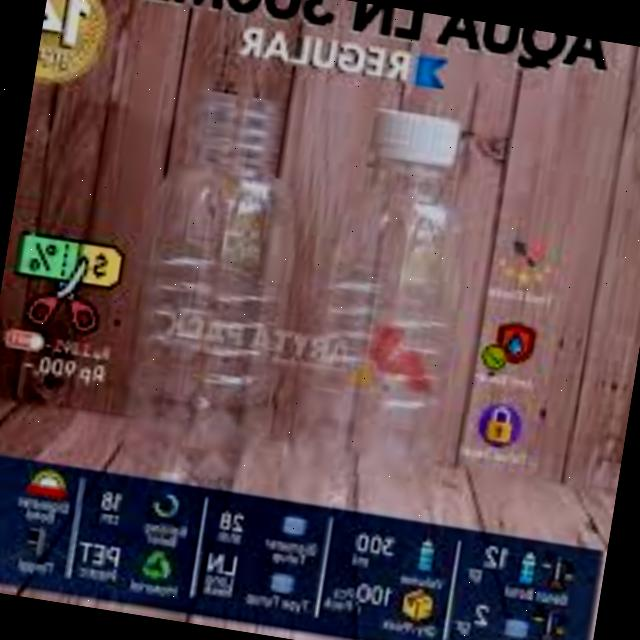trash: (264, 92, 494, 524), (100, 72, 326, 498)
